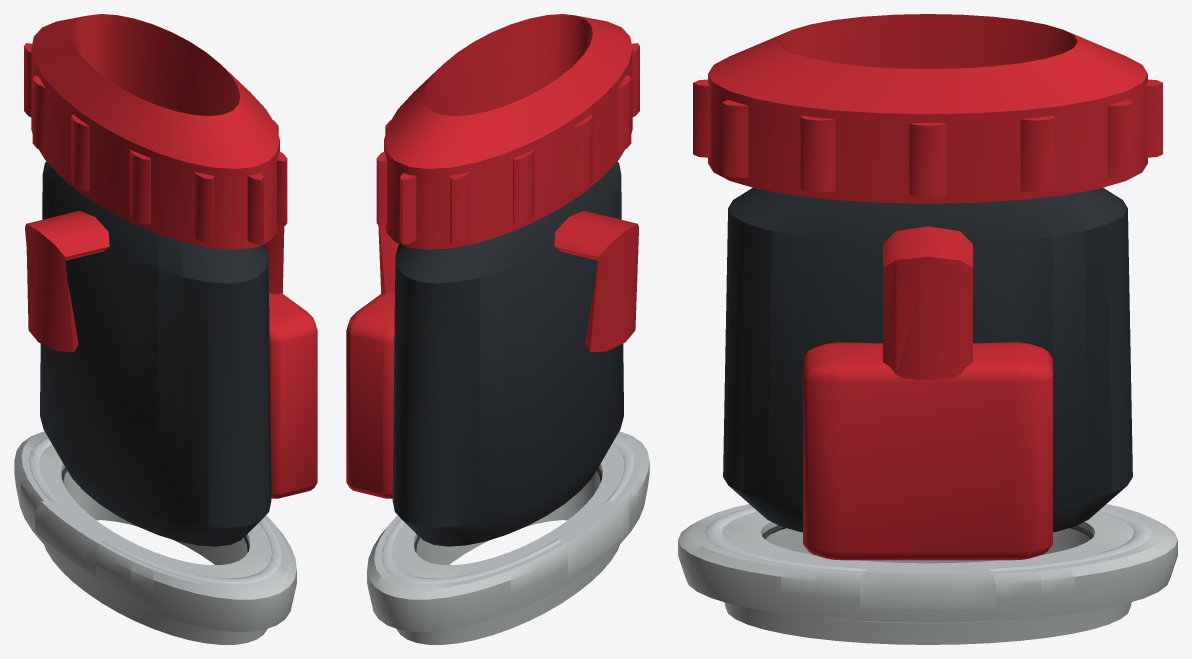
File: ob_small_nozzle.glb
The picture shows the model from 3 angles, left to right: view 1: azimuth 30°, elevation 25°; view 2: azimuth 150°, elevation 25°; view 3: azimuth 270°, elevation 25°; orthographic projection. The views are drawn at different scales.
Parts seen in each view (by area): view 1: ob_small_nozzle; view 2: ob_small_nozzle; view 3: ob_small_nozzle.
Boxes of the visible parts, x1,y1,x2,y2 form: ob_small_nozzle: [14, 14, 317, 644]; ob_small_nozzle: [346, 14, 649, 644]; ob_small_nozzle: [678, 14, 1177, 644].
Bounding box in the file's own units: 0.12 × 0.25 × 0.2.
